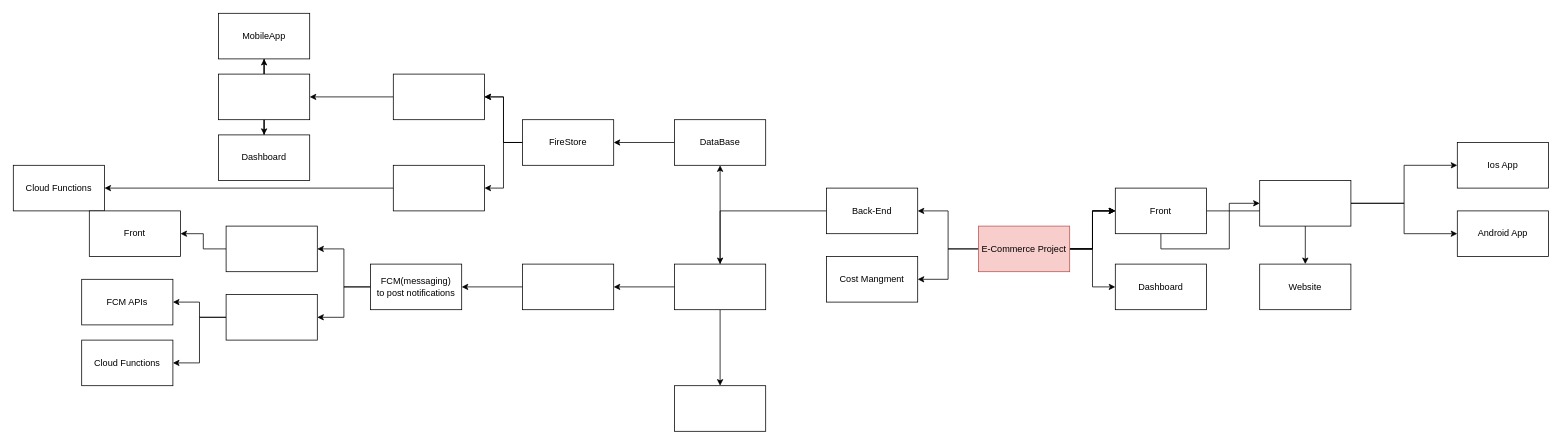
The diagram is 1562 pixels wide and 445 high, and some of its shapes have lost their labels. The shapes that lost their labels are listed below. From the top down, each one's centre as x and y in pixels, then its label:
At [264,96]: "FrontEnd".
At [438,96]: "Read data from".
At [438,188]: "Write".
At [1305,203]: "Mobile App".
At [271,248]: "Recevers".
At [568,286]: "Notification".
At [720,286]: "Firebase".
At [271,317]: "Send".
